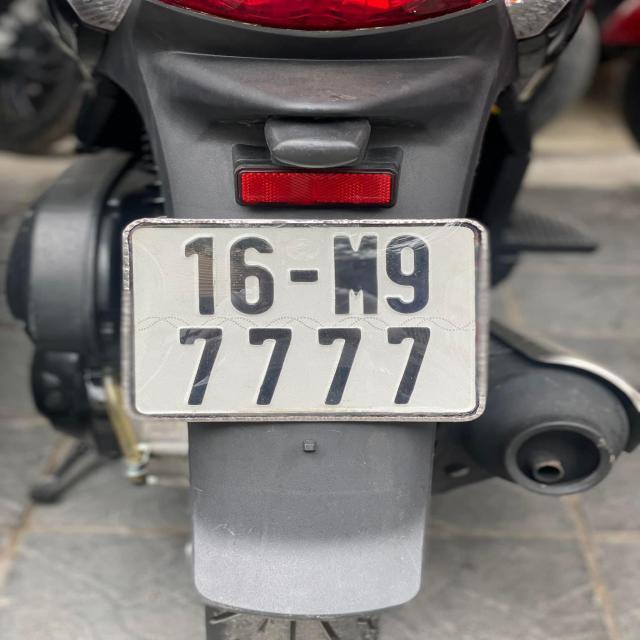1: (178, 232, 219, 316)
6: (225, 234, 279, 316)
7: (381, 324, 434, 406), (173, 324, 225, 407), (312, 325, 363, 406), (243, 325, 294, 406)
9: (381, 232, 434, 316)
M: (327, 230, 378, 316)
